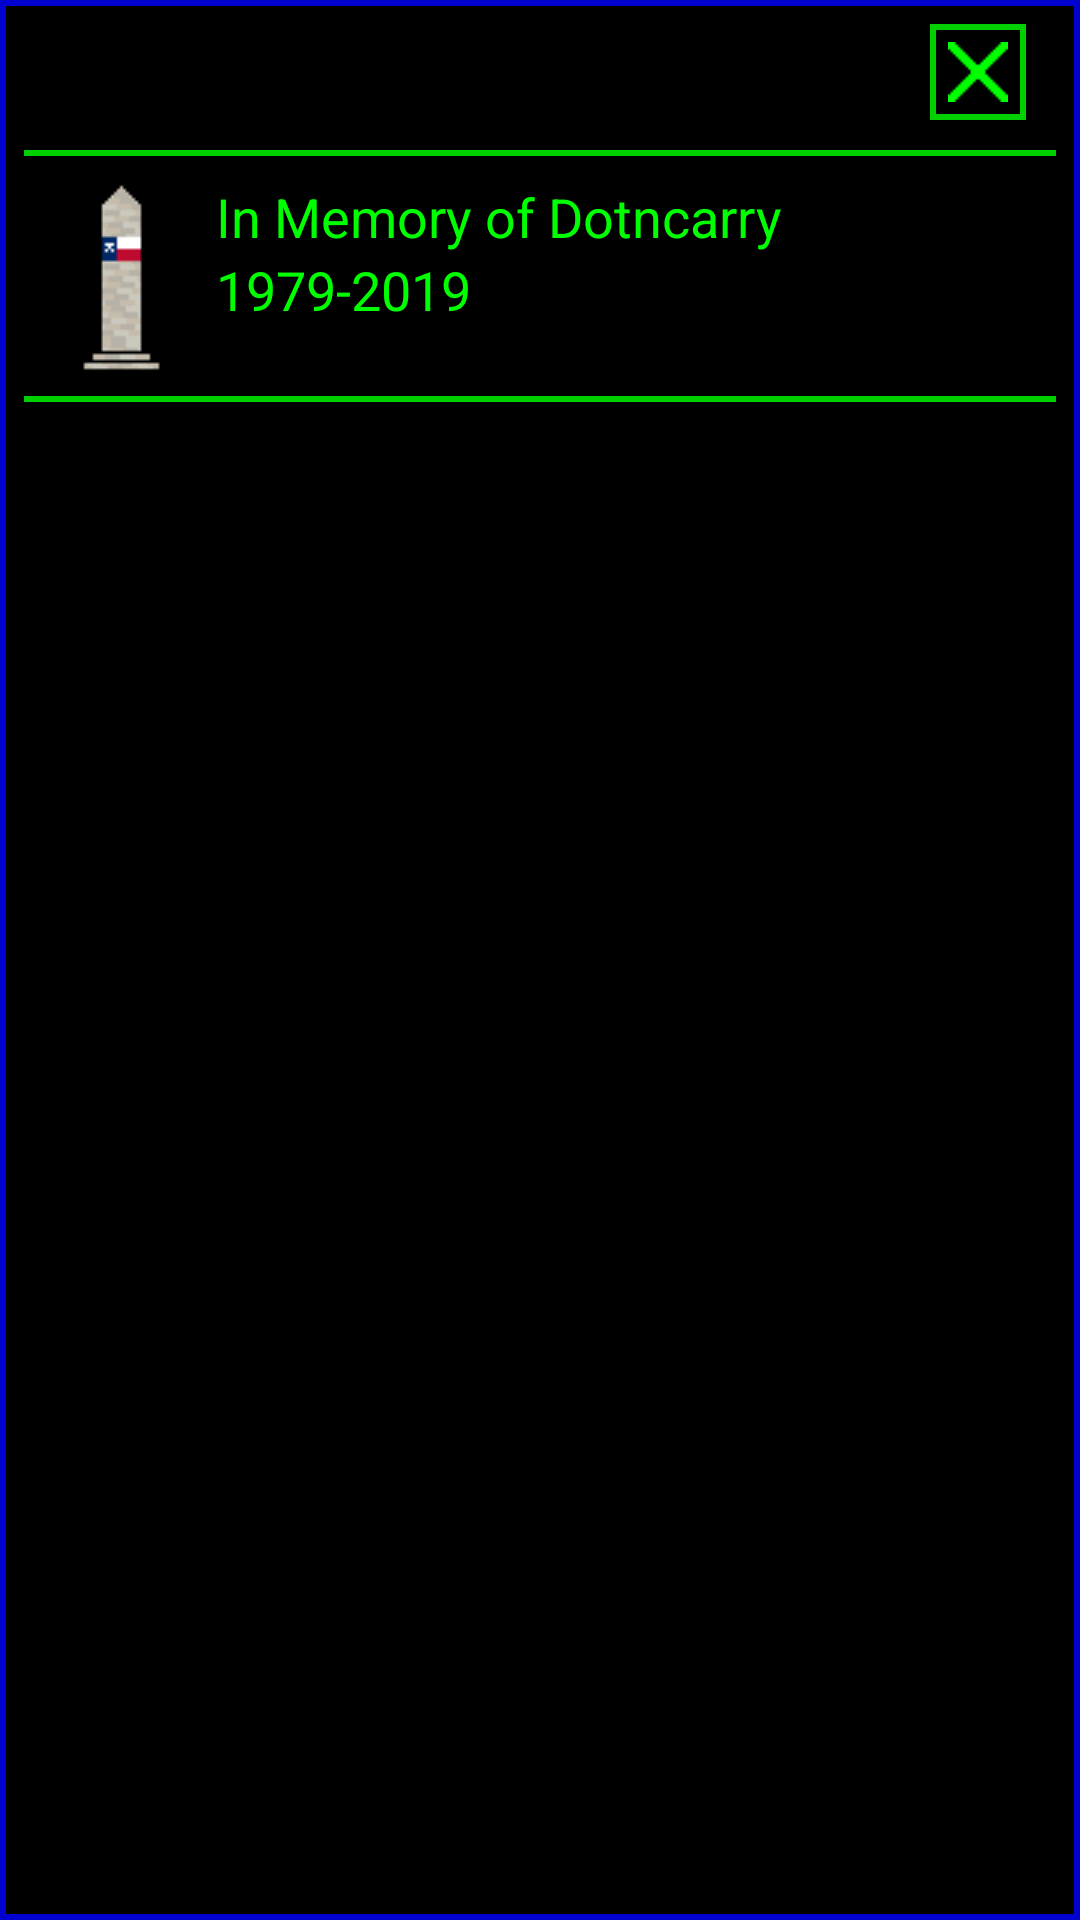

Where to tap for icons on this 1080px×1920px app screen, as (x,y):
close: (978,72)
marker texas obelisk: (121,277)
